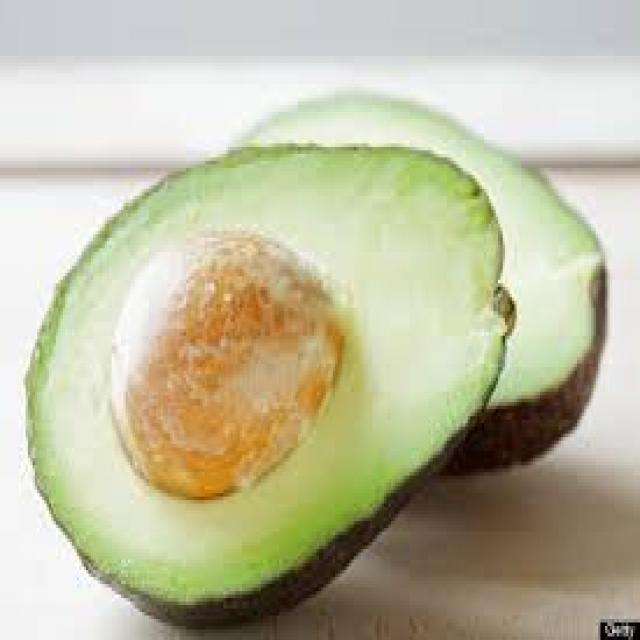organic waste: (21, 140, 510, 622), (217, 95, 608, 493), (105, 220, 342, 497)
